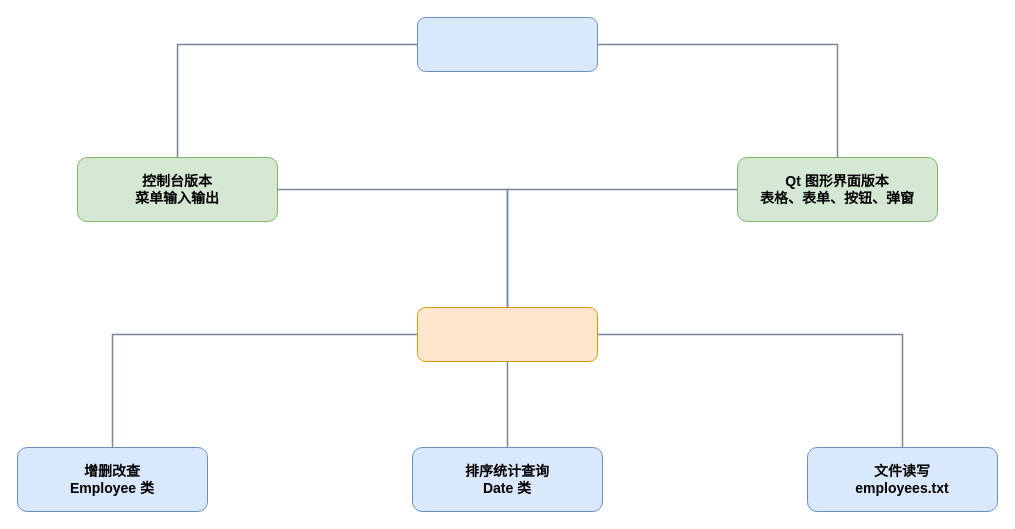
The diagram is 1015 pixels wide and 529 high, and some of its shapes have lost their labels. Each missing label, with the centre of its shape:
人事管理系统: pixel 507 44
员工数据管理: pixel 507 334
